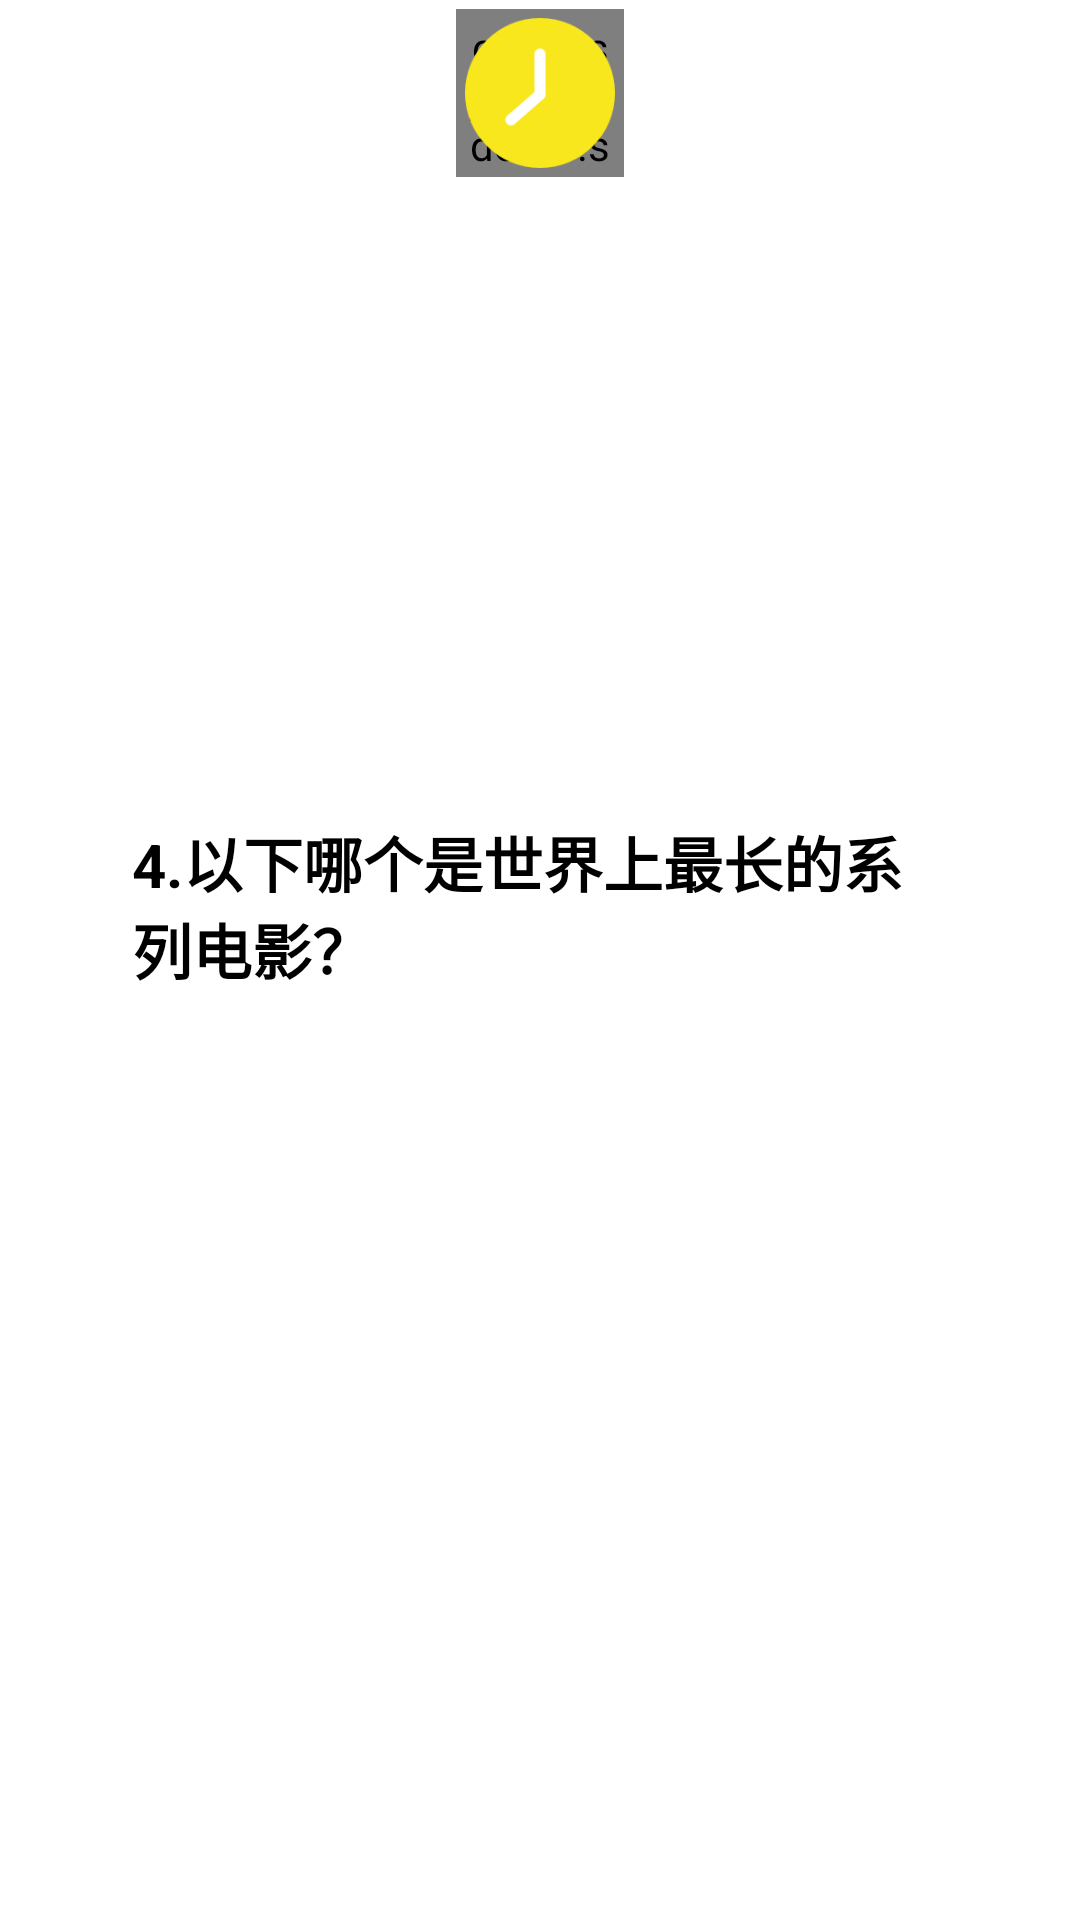

Icon click points for this 1080px×1920px phone screenshot, format (x=x, y=y):
lqa no time: (x=540, y=93)
